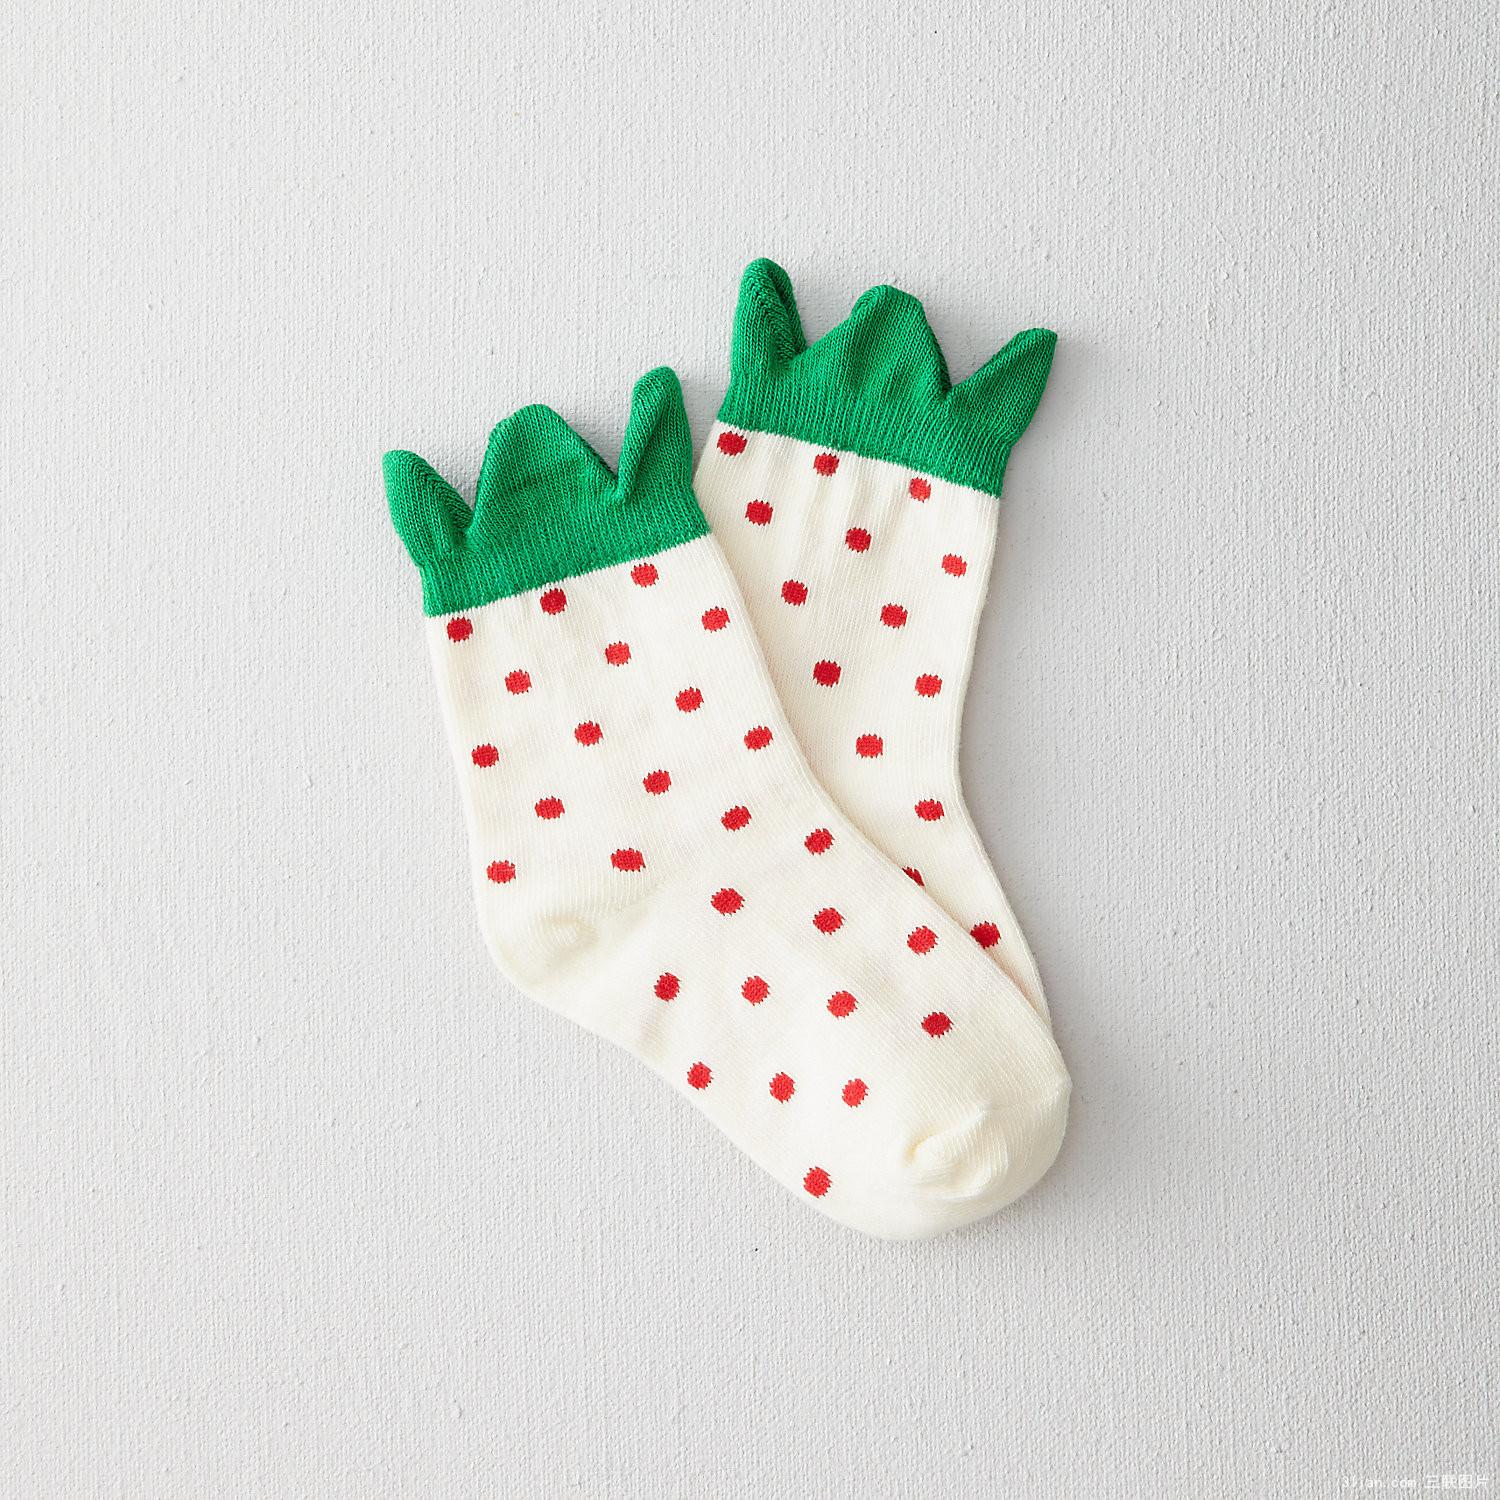flexible: (387, 253, 1080, 1240)
